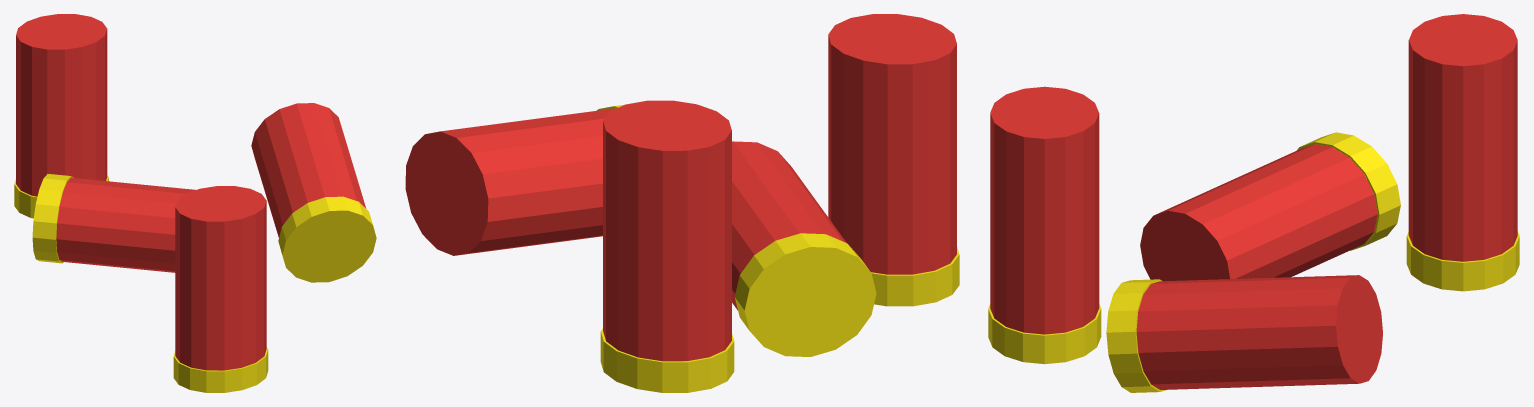
Rendered from Shotgun Bullets.glb.
3 views of the same model, side by side, from view 1: azimuth 30°, elevation 25°; view 2: azimuth 150°, elevation 25°; view 3: azimuth 270°, elevation 25° (orthographic). The views are drawn at different scales.
Parts seen in each view (by area): view 1: Ammunition1, Ammunition4, Ammunition2, Ammunition3; view 2: Ammunition2, Ammunition1, Ammunition4, Ammunition3; view 3: Ammunition1, Ammunition2, Ammunition4, Ammunition3.
Boxes of the visible parts, bbox=[...] form: Ammunition1: bbox=[173, 186, 268, 392]; Ammunition4: bbox=[251, 103, 376, 282]; Ammunition2: bbox=[14, 14, 108, 218]; Ammunition3: bbox=[32, 174, 195, 272]; Ammunition2: bbox=[600, 100, 734, 392]; Ammunition1: bbox=[828, 14, 959, 306]; Ammunition4: bbox=[405, 104, 624, 255]; Ammunition3: bbox=[732, 141, 876, 356]; Ammunition1: bbox=[988, 86, 1101, 364]; Ammunition2: bbox=[1406, 14, 1519, 291]; Ammunition4: bbox=[1106, 275, 1382, 392]; Ammunition3: bbox=[1140, 132, 1400, 281].
Size of the model in its own units: 0.474 by 0.3187 by 0.5171.
